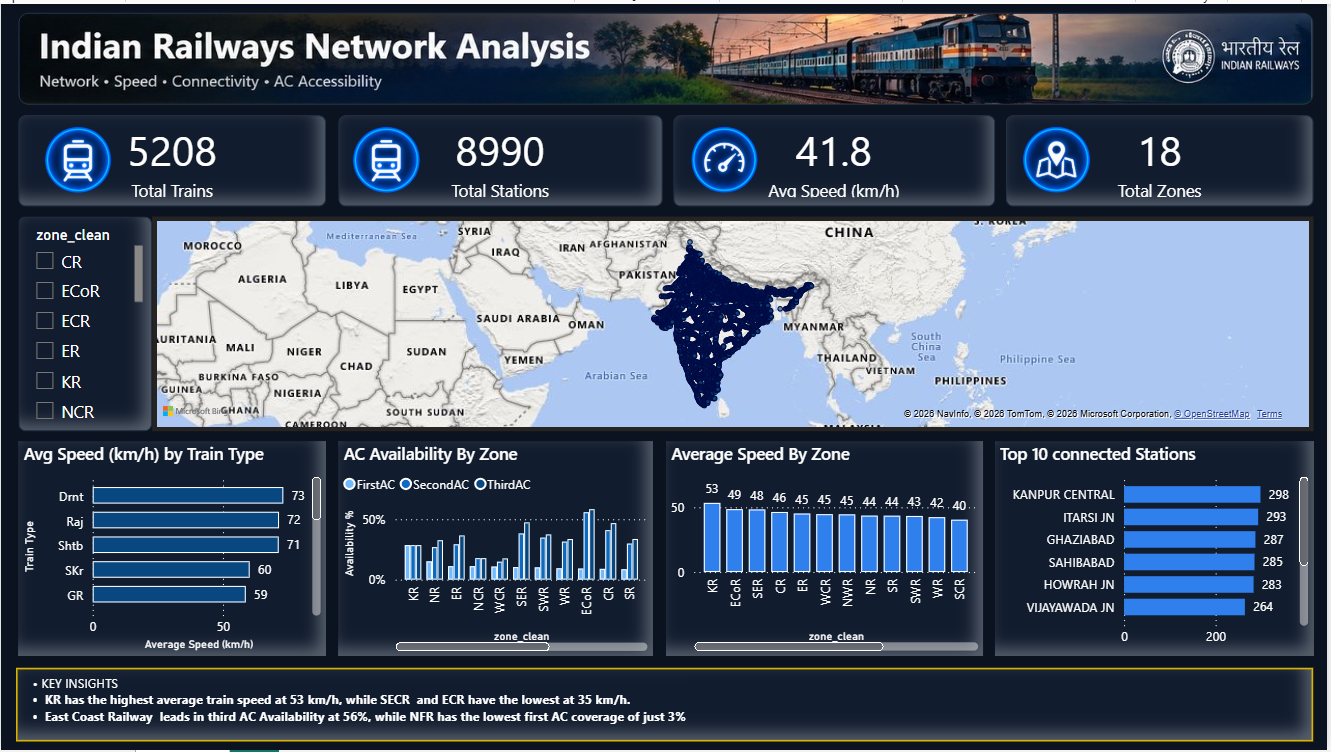

Layout of this report page (visuals, bound fields, positions):
{"tool":"powerbi","page":{"name":"Page 1","canvas":[1280,720],"ordinal":0},"visuals":[{"type":"textbox","box":[14.5,640.6,1252.3,71.2],"z":0},{"type":"clusteredColumnChart","title":"Average Speed By Zone","fields":{"Category":["railways_projet stationss.zone_clean"],"Y":["railways_projet trainss.AvgSpeedKmh"]},"box":[641.8,422.3,306.4,207],"z":1000},{"type":"clusteredColumnChart","title":"AC Availability By Zone","fields":{"Category":["railways_projet stationss.zone_clean"],"Y":["railways_projet trainss.FirstACPct","railways_projet trainss.SecondACPct","railways_projet trainss.ThirdACPct"]},"box":[325.7,422.3,303.3,207.3],"z":2000},{"type":"barChart","title":"Top 10 connected Stations","fields":{"Category":["railways_projet schedules.Station Name"],"Y":["railways_projet schedules.StationStops"]},"box":[959.1,422.3,307.6,207],"z":3000},{"type":"card","title":"Total Trains","fields":{"Values":["railways_projet trainss.TotalTrains"]},"box":[16.9,107.4,296.8,88.1],"z":4000},{"type":"slicer","fields":{"Values":["railways_projet stationss.zone_clean"]},"box":[16.9,205.1,129.1,207.5],"z":5000},{"type":"map","fields":{"X":["railways_projet stationss.Longitude"],"Y":["railways_projet stationss.Latitude"]},"box":[146,205.1,1120.8,207.5],"z":6000},{"type":"clusteredBarChart","title":"Avg Speed (km/h) by Train Type","fields":{"Category":["railways_projet trainss.Train Type"],"Y":["railways_projet trainss.AvgSpeedByTrainType"]},"box":[16.9,422.3,296.8,207],"z":7000},{"type":"card","fields":{"Values":["railways_projet stationss.TotalStations"]},"box":[325.7,107.4,312.5,88.1],"z":8000},{"type":"card","fields":{"Values":["railways_projet trainss.TotalDistance"]},"box":[649.1,107.4,310.1,88.1],"z":9000},{"type":"card","fields":{"Values":["railways_projet trainss.TotalZones"]},"box":[970,107.4,296.8,88.1],"z":10000},{"type":"image","box":[16.7,8.3,1249.4,89],"z":11000},{"type":"image","box":[13.9,103,119.7,96],"z":12000},{"type":"image","box":[313.7,105,119.4,92.9],"z":13000},{"type":"image","box":[649.1,103.8,95.3,96.5],"z":14000},{"type":"image","box":[958.6,103,119,96],"z":15000},{"type":"image","box":[25.3,640.6,33.8,42.2],"z":16000}]}

Visuals, with their boxes in screenshot pixels (x1, y1, x2, y2), scaled from the page's 1280x720 canvas onto the 1331x752 screenshot:
textbox: 15:669:1317:743
"Average Speed By Zone" clusteredColumnChart: 667:441:986:657
"AC Availability By Zone" clusteredColumnChart: 339:441:654:658
"Top 10 connected Stations" barChart: 997:441:1317:657
"Total Trains" card: 18:112:326:204
slicer - railways_projet stationss.zone_clean: 18:214:152:431
map - railways_projet stationss.Longitude x railways_projet stationss.Latitude: 152:214:1317:431
"Avg Speed (km/h) by Train Type" clusteredBarChart: 18:441:326:657
card - railways_projet stationss.TotalStations: 339:112:664:204
card - railways_projet trainss.TotalDistance: 675:112:997:204
card - railways_projet trainss.TotalZones: 1009:112:1317:204
image: 17:9:1317:102
image: 14:108:139:208
image: 326:110:450:207
image: 675:108:774:209
image: 997:108:1121:208
image: 26:669:61:713
